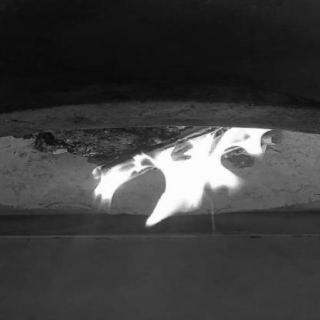Fire: (78, 125, 280, 238)
